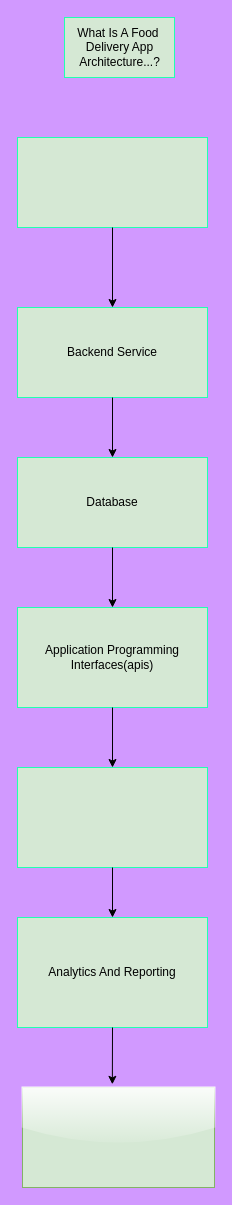
Image size: 232x1205. Some labels were removed from this diagram. Each missing label, with the box of its shape:
Admin Panel: (22, 1086, 214, 1188)
Third-party Intrations: (16, 766, 208, 868)
User interface: (16, 136, 208, 228)
